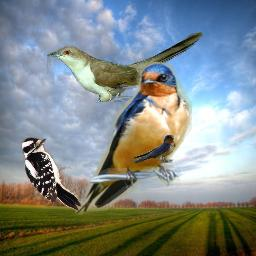Cuckoo: (47, 31, 203, 102)
Swallow: (75, 62, 192, 215), (125, 134, 176, 163)
Woodpecker: (21, 137, 82, 212)
